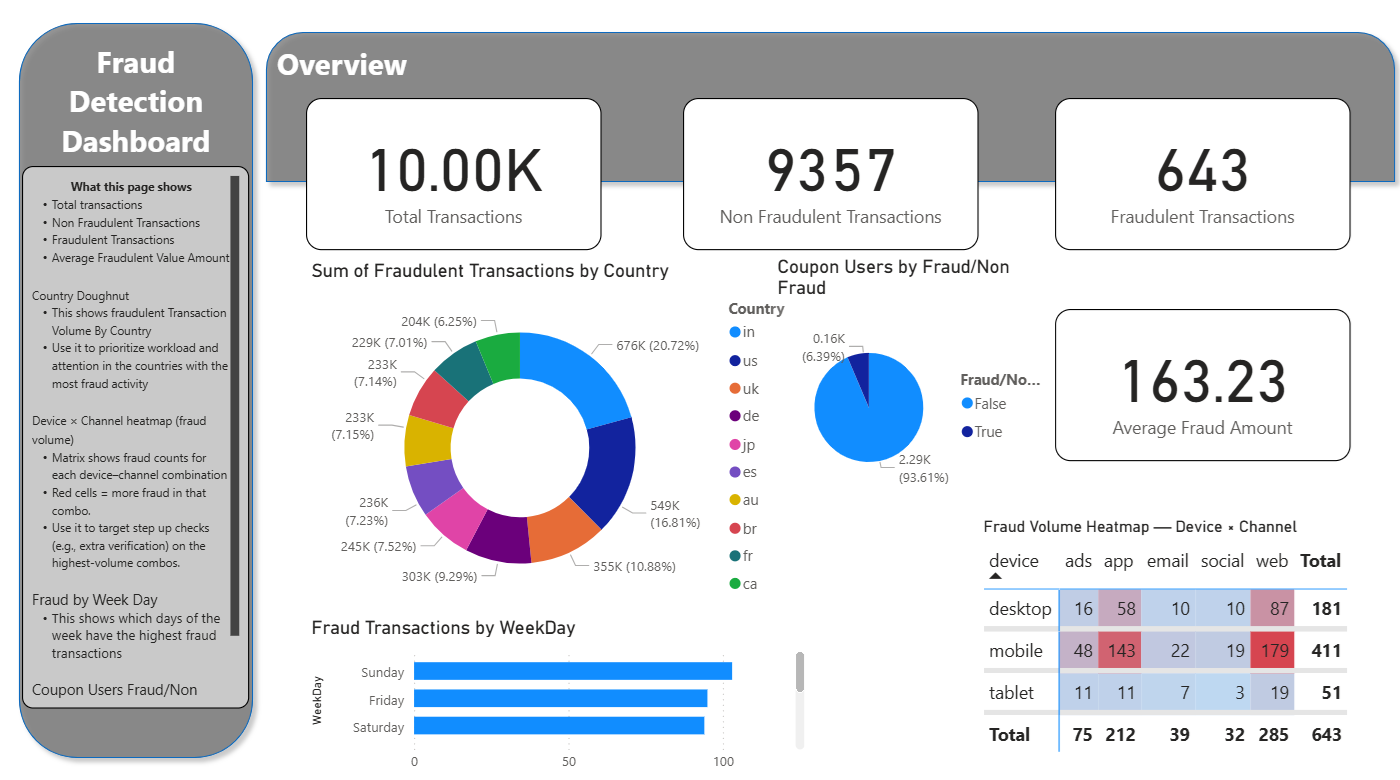

This screenshot's page, from the dashboard's own definition file:
{"tool":"powerbi","page":{"name":"Overview","canvas":[1280,720],"ordinal":0},"visuals":[{"type":"shape","box":[14.5,20.9,230.3,684.6],"z":0},{"type":"shape","box":[238.5,29,1041.9,154.2],"z":1000},{"type":"card","fields":{"Values":["CountNonNull(cleaned_transactions.transaction_id)"]},"box":[283.8,97.9,267.5,137.8],"z":2000},{"type":"card","fields":{"Values":["CountNonNull(cleaned_transactions.is_fraud)"]},"box":[625.7,97.9,267.5,137.8],"z":3000},{"type":"card","fields":{"Values":["CountNonNull(cleaned_transactions.is_fraud)"]},"box":[963,97.9,267.5,137.8],"z":4000},{"type":"card","fields":{"Values":["Avg(cleaned_transactions.amount)"]},"box":[963,289.3,267.5,137.8],"z":5000},{"type":"donutChart","fields":{"Category":["cleaned_transactions.country"],"Y":["Sum(cleaned_transactions.transaction_id)"]},"box":[283.8,243.9,457,323.7],"z":6000},{"type":"pivotTable","title":"Fraud Volume Heatmap — Device × Channel","fields":{"Rows":["cleaned_transactions.device"],"Columns":["cleaned_transactions.channel"],"Values":["CountNonNull(cleaned_transactions.transaction_id)"]},"box":[893.2,478.8,344.6,226.7],"z":7000},{"type":"textbox","box":[26.3,159.6,205.8,492.4],"z":8000},{"type":"clusteredBarChart","fields":{"Category":["cleaned_transactions.WeekDay"],"Y":["CountNonNull(cleaned_transactions.transaction_id)"]},"box":[284,568,457,150],"z":9000},{"type":"pieChart","fields":{"Category":["cleaned_transactions.is_fraud"],"Y":["CountNonNull(cleaned_transactions.transaction_id)"]},"box":[706.4,240.3,256.6,238.5],"z":10000}]}

Visuals, with their boxes in screenshot pixels (x1, y1, x2, y2), scaled from the page's 1280x720 canvas onto the 1400x780 screenshot:
shape: bbox=[16, 23, 268, 764]
shape: bbox=[261, 31, 1399, 198]
card - CountNonNull(cleaned_transactions.transaction_id): bbox=[310, 106, 603, 255]
card - CountNonNull(cleaned_transactions.is_fraud): bbox=[684, 106, 977, 255]
card - CountNonNull(cleaned_transactions.is_fraud): bbox=[1053, 106, 1346, 255]
card - Avg(cleaned_transactions.amount): bbox=[1053, 313, 1346, 463]
donutChart - cleaned_transactions.country x Sum(cleaned_transactions.transaction_id): bbox=[310, 264, 810, 615]
"Fraud Volume Heatmap — Device × Channel" pivotTable: bbox=[977, 519, 1354, 764]
textbox: bbox=[29, 173, 254, 706]
clusteredBarChart - cleaned_transactions.WeekDay x CountNonNull(cleaned_transactions.transaction_id): bbox=[311, 615, 810, 778]
pieChart - cleaned_transactions.is_fraud x CountNonNull(cleaned_transactions.transaction_id): bbox=[773, 260, 1053, 519]
